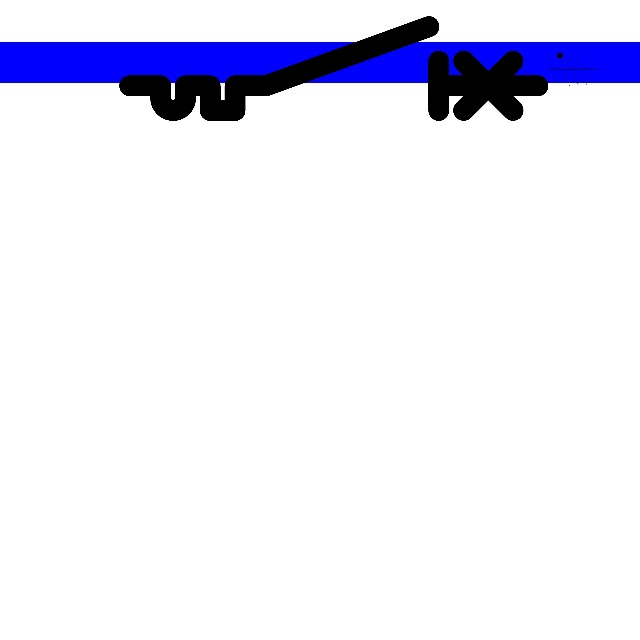interruptor_termomagnetico: (119, 16, 549, 121)
